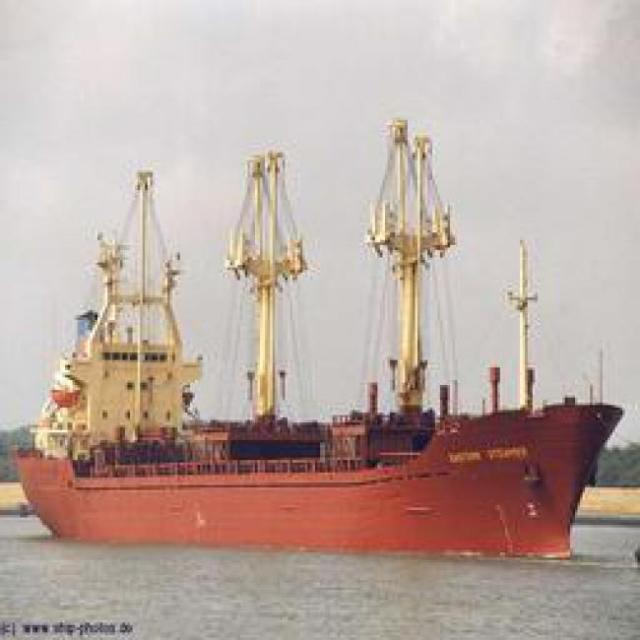boat: (23, 178, 616, 574)
